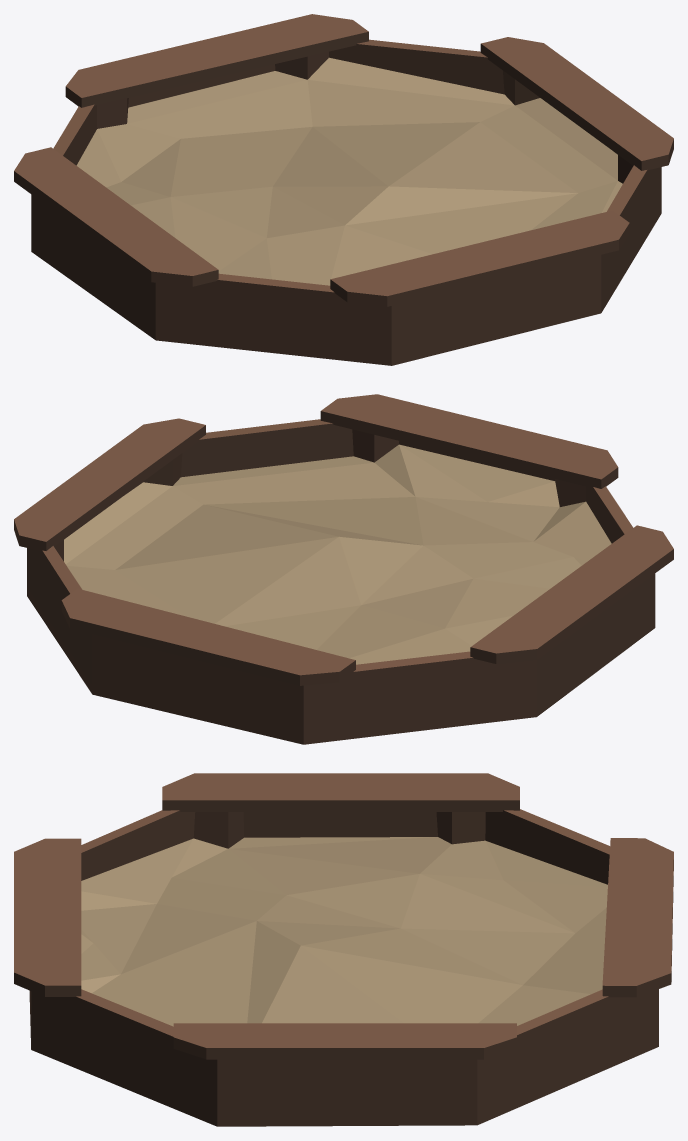
File: SM_Prop_Sandpit_01.fbx
3 views of the same model, one above another, from view 1: azimuth 30°, elevation 25°; view 2: azimuth 150°, elevation 25°; view 3: azimuth 270°, elevation 25° (orthographic). The views are drawn at different scales.
Visible parts, largest first — view 1: SM_Prop_Sandpit_01; view 2: SM_Prop_Sandpit_01; view 3: SM_Prop_Sandpit_01.
Boxes of the visible parts, x1,y1,x2,y2 form: SM_Prop_Sandpit_01: (14, 14, 673, 365); SM_Prop_Sandpit_01: (14, 394, 673, 744); SM_Prop_Sandpit_01: (14, 773, 673, 1126).
Size of the model in its own units: 273 by 38.45 by 277.
